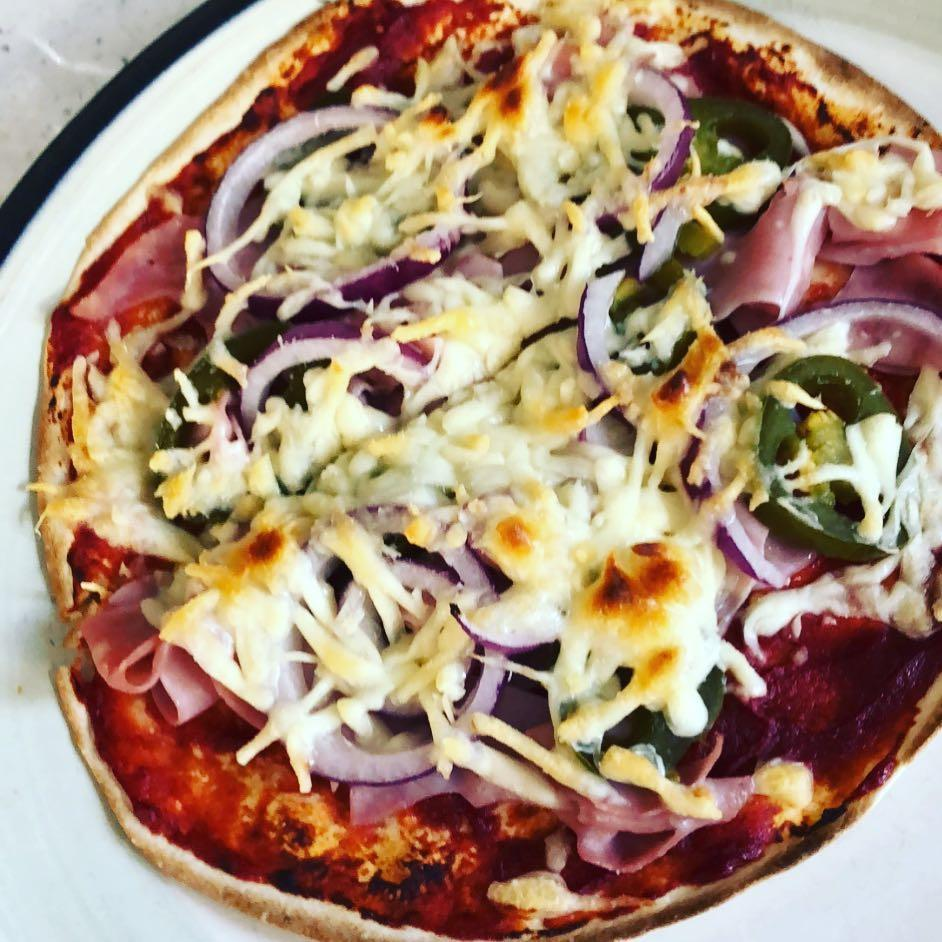Cheese: (522, 444, 683, 644), (432, 62, 594, 195), (256, 407, 510, 491), (449, 294, 563, 406)
Ham: (707, 140, 942, 290), (71, 566, 234, 724), (543, 774, 790, 868), (69, 199, 196, 330)
Onion: (687, 345, 766, 599), (452, 510, 512, 798), (275, 511, 335, 795), (237, 328, 449, 404), (197, 124, 278, 283), (763, 291, 942, 353), (279, 247, 461, 304), (624, 55, 696, 193), (561, 265, 636, 391), (337, 505, 451, 582), (334, 726, 452, 793), (278, 104, 416, 158)
Peppers: (767, 355, 896, 565), (553, 657, 743, 772), (154, 339, 235, 560)
Pizza: (44, 0, 942, 942)
